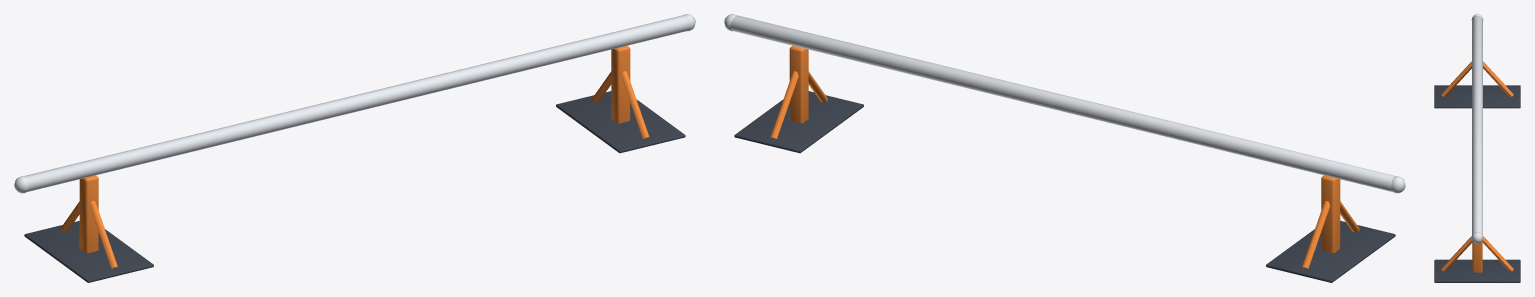
File: skate_corrimao.glb
3 renders of one model, left to right at view 1: azimuth 30°, elevation 25°; view 2: azimuth 150°, elevation 25°; view 3: azimuth 270°, elevation 25°, orthographic. The views are drawn at different scales.
Parts seen in each view (by area): view 1: skate_corrimao; view 2: skate_corrimao; view 3: skate_corrimao.
Part boxes in pixels (x1,y1,x2,y2): skate_corrimao: [14, 14, 695, 282]; skate_corrimao: [724, 14, 1405, 282]; skate_corrimao: [1434, 14, 1520, 282].
Size of the model in its own units: 3.06 by 0.394 by 0.5.
1 material, 1 textured.
